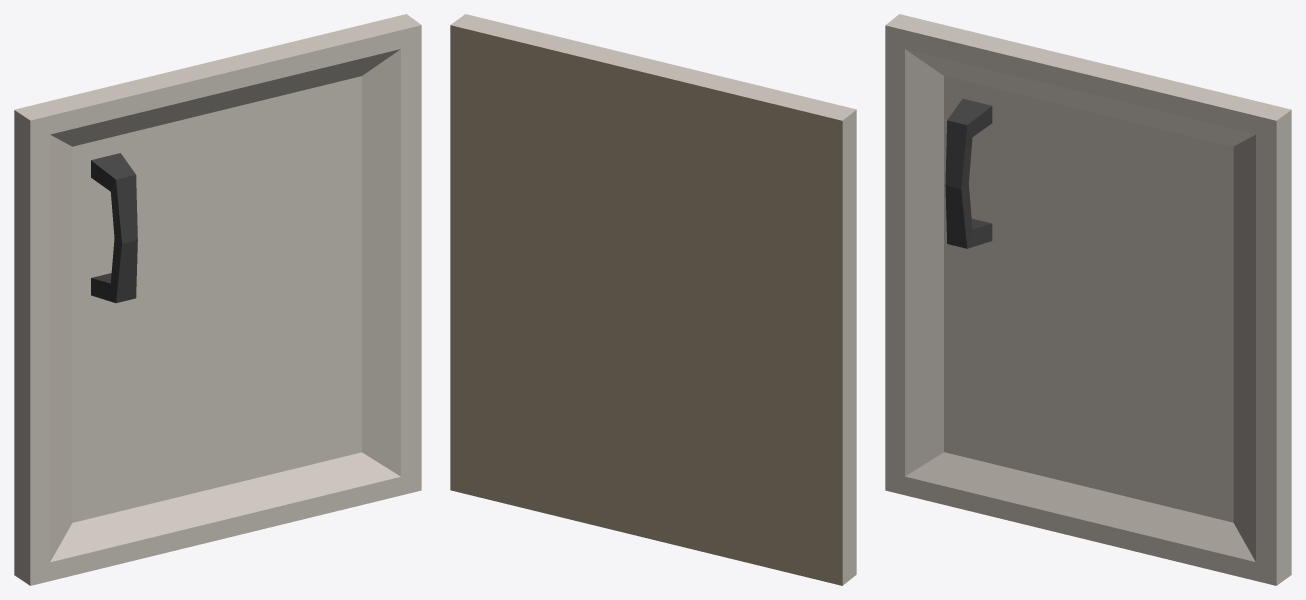
Rendered from SM_Prop_Kitchen_Counter_01_Door_02.obj.
The picture shows the model from 3 angles, left to right: view 1: azimuth 30°, elevation 25°; view 2: azimuth 150°, elevation 25°; view 3: azimuth 330°, elevation 25°; orthographic projection.
Visible parts, largest first — view 1: SM_Prop_Kitchen_Counter_01_Door_02_0; view 2: SM_Prop_Kitchen_Counter_01_Door_02_0; view 3: SM_Prop_Kitchen_Counter_01_Door_02_0.
Part boxes in pixels (x1,y1,x2,y2): SM_Prop_Kitchen_Counter_01_Door_02_0: [14, 14, 421, 585]; SM_Prop_Kitchen_Counter_01_Door_02_0: [450, 14, 856, 585]; SM_Prop_Kitchen_Counter_01_Door_02_0: [885, 14, 1291, 585].
Size of the model in its own units: 0.4738 by 0.5369 by 0.0648.
Materials: 1 (1 with a texture image).
